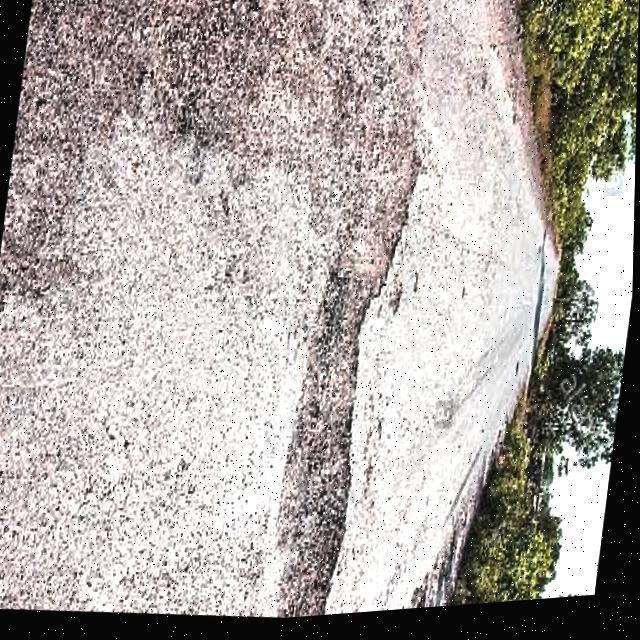pothole: (264, 135, 422, 624)
